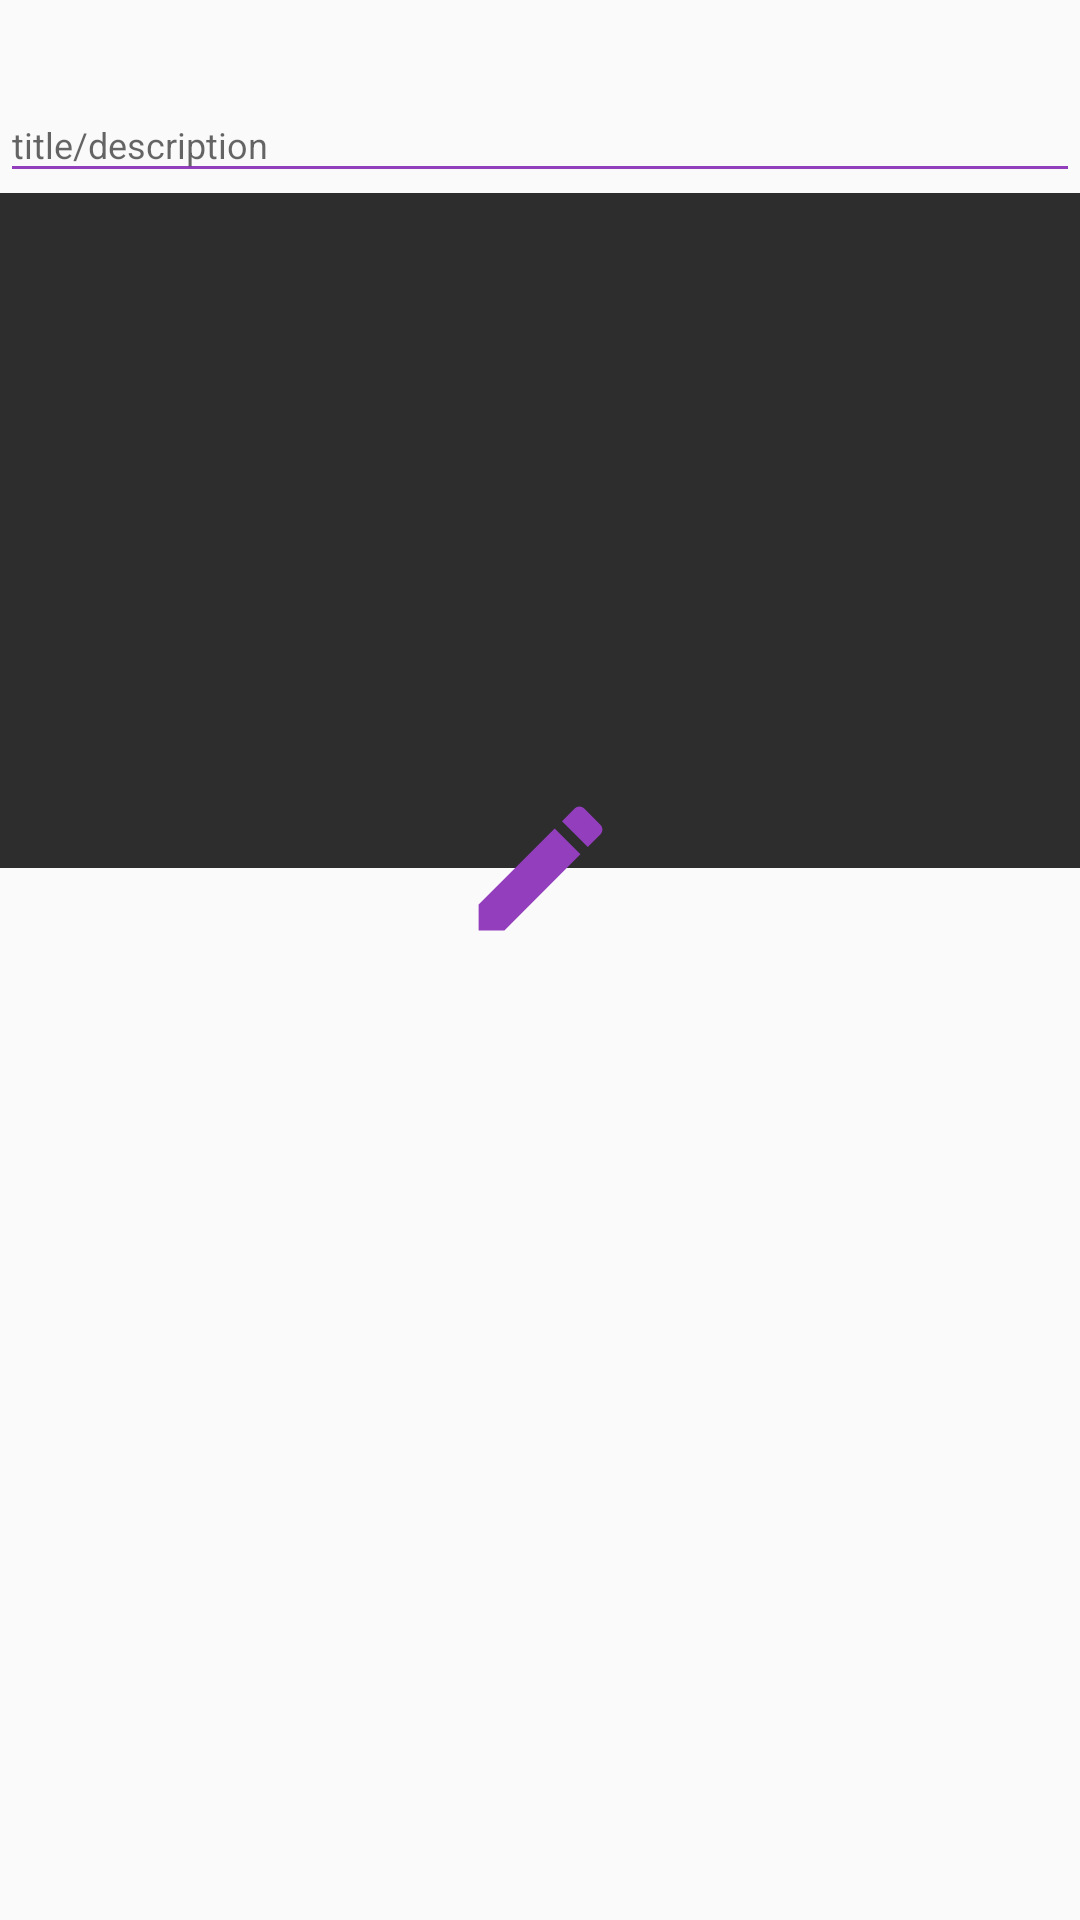

Icon click points for this 1080 × 1920 phone screenshot, format point (x, y):
edit post: point (540, 868)
